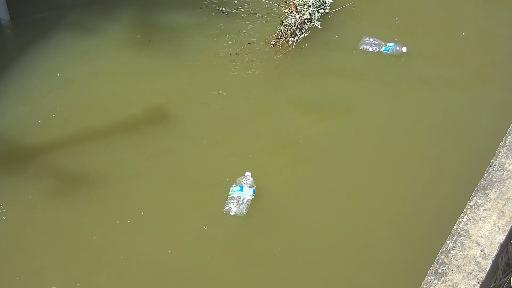plastic: (208, 174, 266, 222), (356, 37, 422, 65)
twig: (236, 0, 332, 60)
